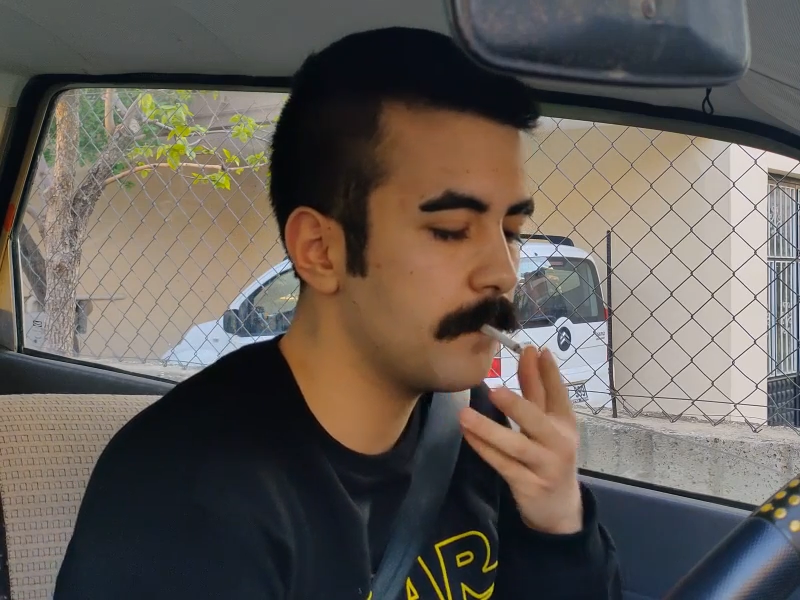sigara: (474, 316, 526, 362)
